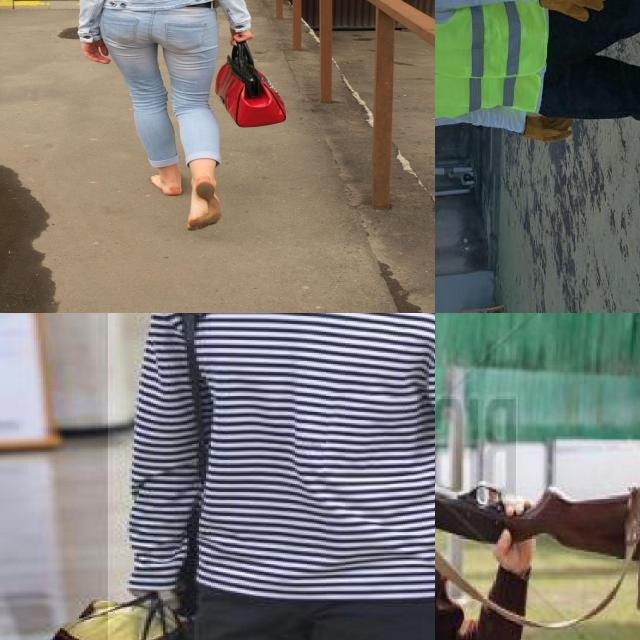Barefoots: (187, 178, 222, 231), (150, 170, 183, 195)
hand_noglove: (492, 493, 538, 572)
person: (107, 313, 435, 640), (435, 0, 640, 197), (435, 315, 544, 640)
vest: (435, 0, 549, 115)
